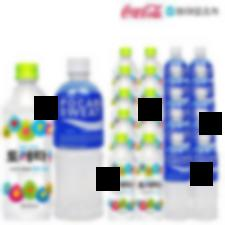pocarisweat: (56, 56, 105, 219), (166, 132, 191, 223), (192, 133, 218, 219)
toreta: (4, 64, 53, 223), (136, 135, 164, 223), (108, 135, 134, 223)
